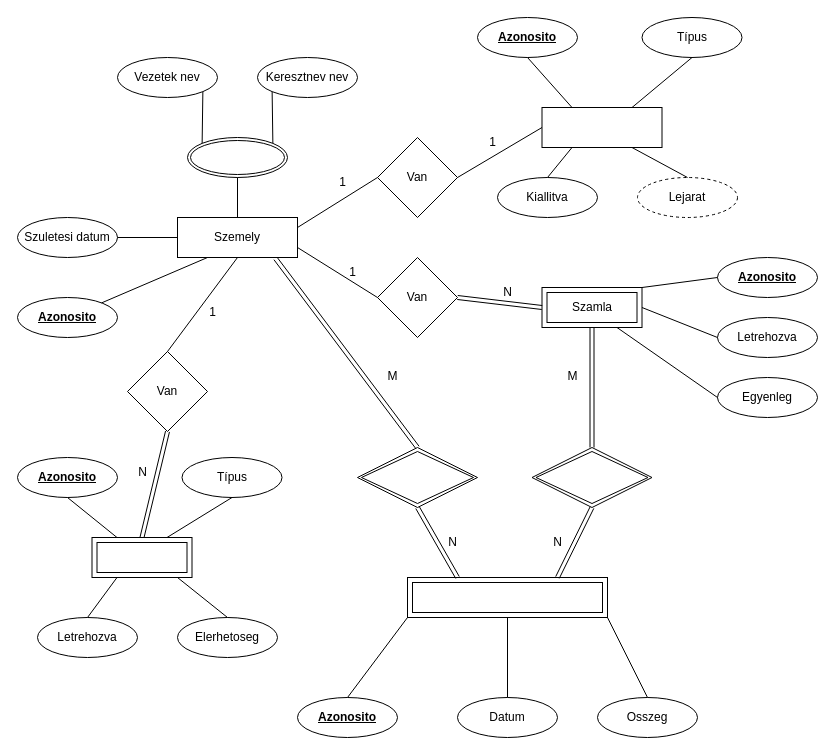
This 835x755 diagram has some shape labels left out. Each missing label, with the box of its shape:
Elerhetosegek: (91, 536, 192, 578)
Honnan - Hova: (531, 446, 652, 508)
Kitol - Kihez: (356, 446, 478, 508)
Okirat (igazolvany): (541, 106, 662, 148)
Teljes nev: (186, 136, 288, 178)
Tranzakcio (Penzmozgatas): (406, 576, 608, 618)
